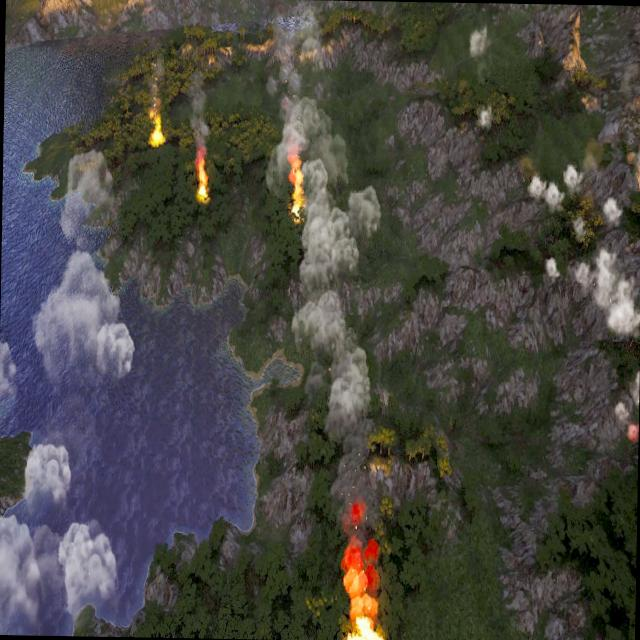fire: (340, 533, 382, 640), (286, 154, 304, 218), (346, 616, 384, 640), (148, 94, 164, 144), (196, 154, 210, 200), (149, 122, 163, 146)
smoke: (250, 16, 401, 522), (523, 160, 640, 466), (29, 147, 140, 388), (0, 444, 117, 636), (266, 15, 322, 184), (336, 502, 390, 620), (24, 443, 72, 519), (528, 160, 584, 208), (190, 73, 210, 159), (0, 337, 15, 406), (468, 23, 488, 59), (478, 102, 493, 132), (572, 215, 584, 237)
